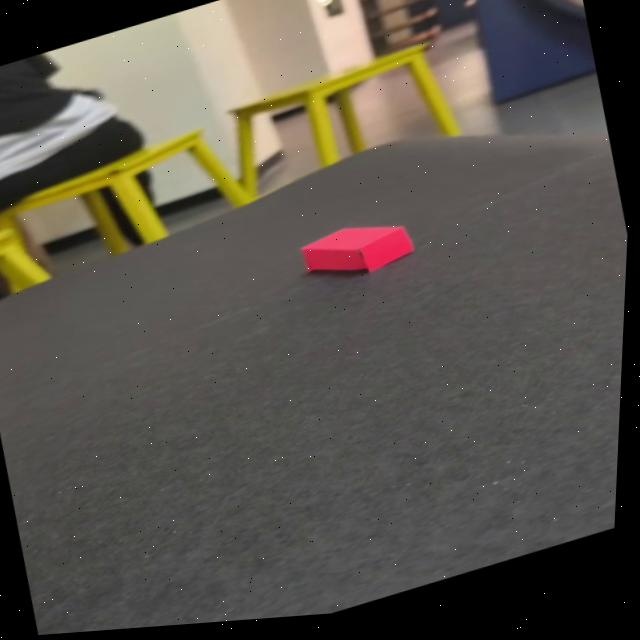red block: (293, 205, 417, 290)
